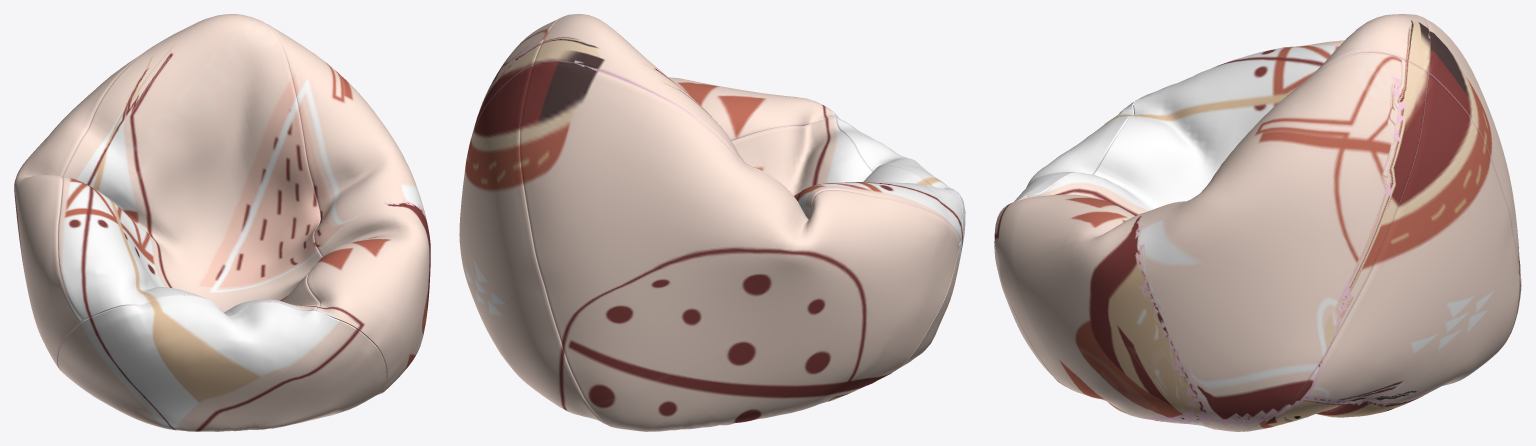
File: bean_bag2.glb
The picture shows the model from 3 angles, left to right: view 1: azimuth 30°, elevation 25°; view 2: azimuth 150°, elevation 25°; view 3: azimuth 270°, elevation 25°; orthographic projection. The views are drawn at different scales.
Visible parts, largest first — view 1: bean_bag_chair_mesh_n3d; view 2: bean_bag_chair_mesh_n3d; view 3: bean_bag_chair_mesh_n3d.
Part boxes in pixels (<box>): bean_bag_chair_mesh_n3d: <box>14,14,430,431</box>; bean_bag_chair_mesh_n3d: <box>459,14,965,431</box>; bean_bag_chair_mesh_n3d: <box>994,14,1521,431</box>.
Bounding box in the file's own units: 1.22 × 0.9303 × 1.24.
1 material, 1 textured.
